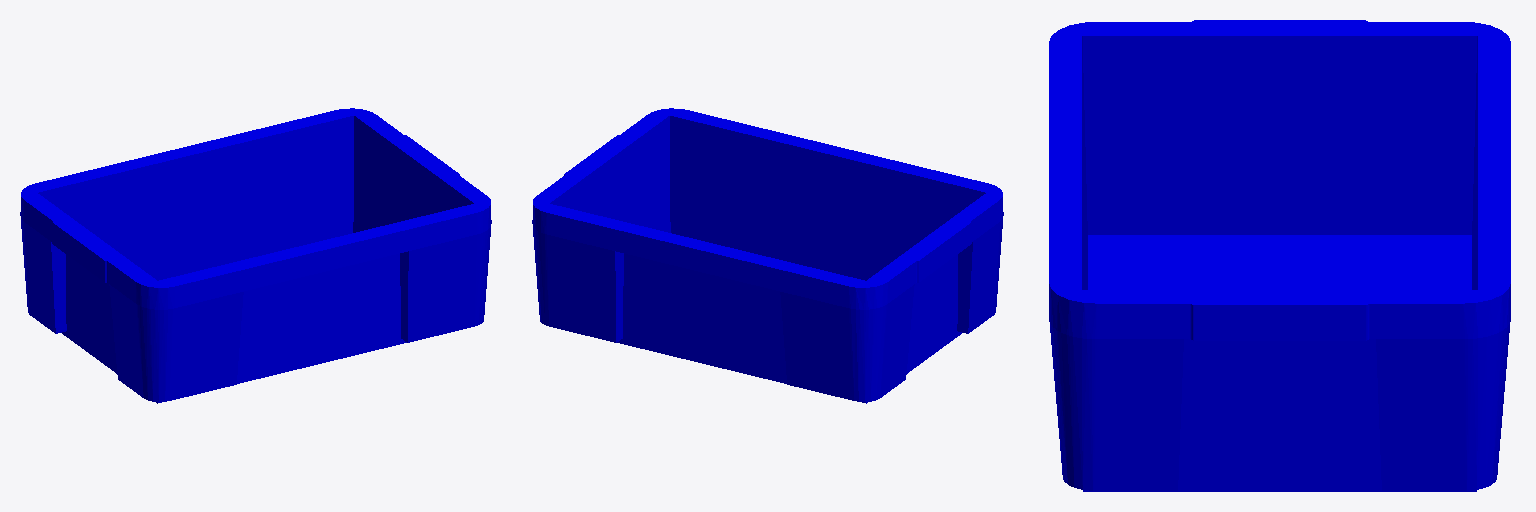
The robot description file, URDF, robot "box_no_lid":
<?xml version="1.0" encoding="utf-8"?>
<robot
  name="box_no_lid">
  <link
    name="base_link">
    <inertial>
      <origin
        xyz="-1.39351125502578E-07 1.72531907588799E-08 0.0697260077867169"
        rpy="0 0 0" />
      <mass
        value="2.30018639174755" />
      <inertia
        ixx="0.0338068086073017"
        ixy="-2.33105584915719E-09"
        ixz="1.19160535928554E-08"
        iyy="0.0629963000717267"
        iyz="-1.47517551360625E-09"
        izz="0.0874855073970769" />
    </inertial>
    <visual>
      <origin
        xyz="0 0 0"
        rpy="0 0 0" />
      <geometry>
        <mesh
          filename="package://mc_int_obj_description/meshes/box_no_lid/box_no_lid.stl" />
      </geometry>
      <material
        name="">
        <color
          rgba="0 0 1 1" />
      </material>
    </visual>
    <collision>
      <origin
        xyz="0 0 0"
        rpy="0 0 0" />
      <geometry>
        <mesh
          filename="package://mc_int_obj_description/meshes/box_no_lid/box_no_lid.stl" />
      </geometry>
    </collision>
  </link>
</robot>

--- Facts derived from the render (not from the file) ---
Views: 3 orthographic renders of the robot side by side, from view 1: azimuth 30°, elevation 25°; view 2: azimuth 150°, elevation 25°; view 3: azimuth 270°, elevation 25°.
Model box_no_lid with 1 links and 0 joints (none), rooted at base_link, posed all joints at 0.
Visible links, largest first — view 1: base_link; view 2: base_link; view 3: base_link.
Boxes of the visible links, x1,y1,x2,y2 form: base_link: (20,108,491,403); base_link: (532,108,1003,403); base_link: (1049,20,1510,491).
Bounding box of the posed robot: 0.426 × 0.292 × 0.141 m (x, y, z).
Meshes: 1 distinct files referenced, 1 mesh visuals loaded (1 binary STL).